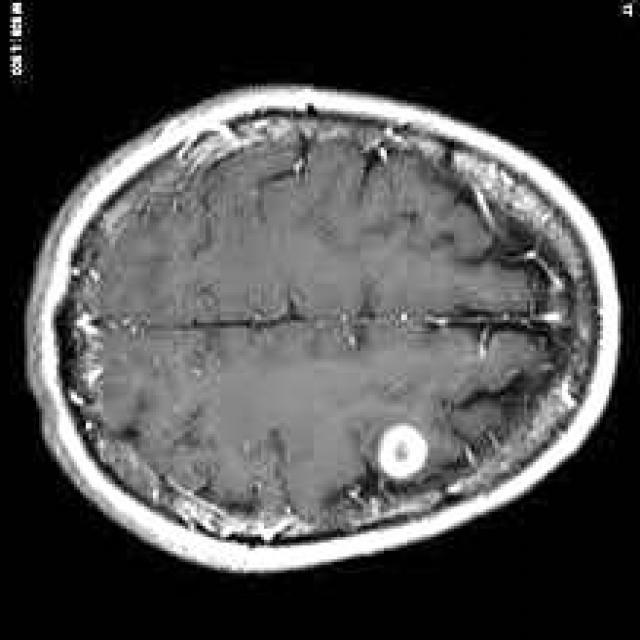tumor: (374, 423, 427, 481)
